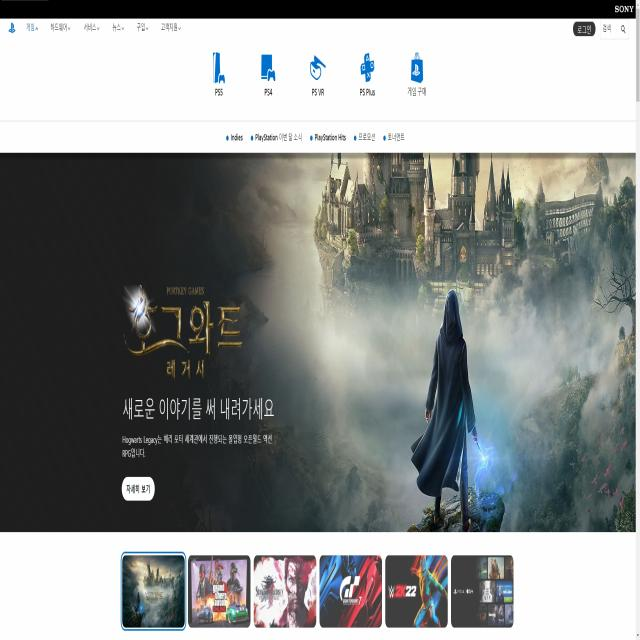search: (599, 18, 629, 40)
tab-bar: (210, 50, 434, 108), (224, 126, 407, 148), (4, 18, 186, 39)
